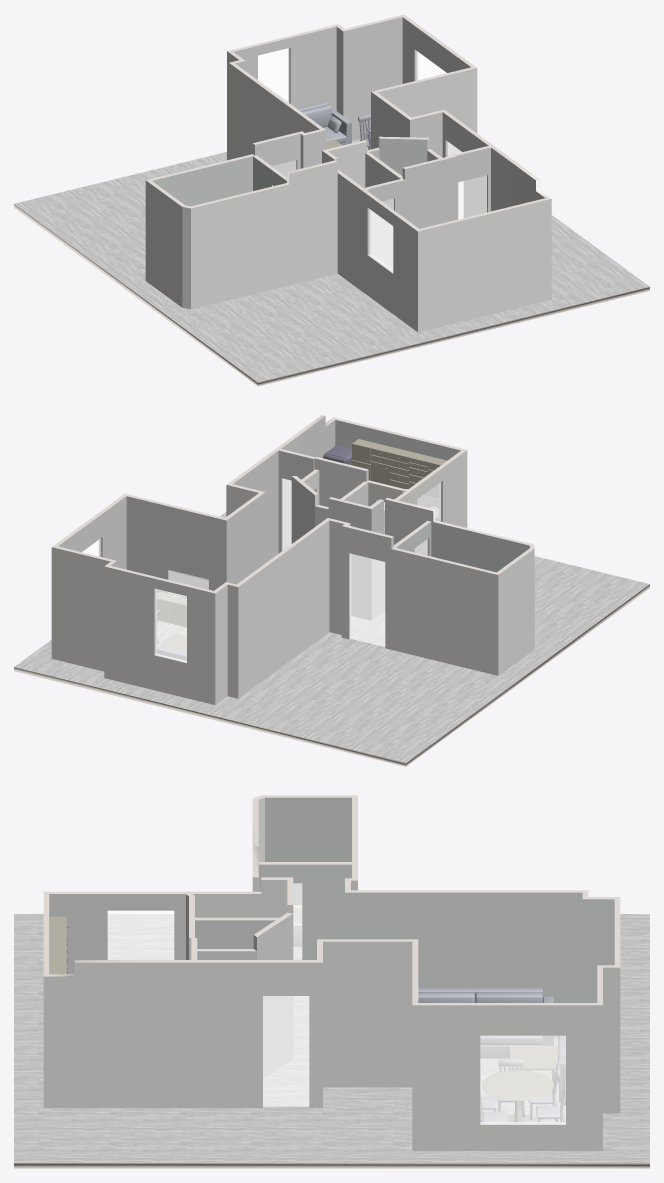
The model's file is myhouse.glb.
3 views of the same model, one above another, from view 1: azimuth 30°, elevation 25°; view 2: azimuth 150°, elevation 25°; view 3: azimuth 270°, elevation 25° (orthographic). The views are drawn at different scales.
Parts seen in each view (by area): view 1: floor_0, wall_29, wall_26, wall_27, wall_6, wall_0, wall_3, wall_5, wall_1, wall_19, wall_4, wall_24 (+18 smaller); view 2: floor_0, wall_24, wall_3, wall_0, wall_1, wall_6, wall_29, wall_5, door_1, wall_4, wall_18, storage_1 (+19 smaller); view 3: floor_0, wall_4, wall_2, wall_0, wall_15, wall_18, window_0, wall_27, wall_5, door_0, wall_16, window_2 (+14 smaller).
Boxes of the visible parts, x1,y1,x2,y2 form: floor_0: [14, 138, 649, 386]; wall_29: [191, 160, 337, 309]; wall_26: [418, 198, 551, 332]; wall_27: [337, 169, 418, 331]; wall_6: [343, 14, 403, 140]; wall_0: [229, 62, 325, 176]; wall_3: [227, 24, 337, 110]; wall_5: [145, 180, 184, 307]; wall_1: [372, 67, 477, 155]; wall_19: [402, 155, 456, 228]; wall_4: [442, 110, 514, 217]; wall_24: [146, 154, 254, 206]; floor_0: [14, 512, 649, 766]; wall_24: [391, 547, 498, 675]; wall_3: [104, 565, 215, 704]; wall_0: [236, 518, 329, 698]; wall_1: [125, 493, 226, 593]; wall_6: [51, 546, 116, 671]; wall_29: [385, 497, 532, 572]; wall_5: [497, 548, 534, 675]; door_1: [350, 553, 385, 646]; wall_4: [227, 433, 300, 562]; wall_18: [225, 492, 265, 584]; storage_1: [352, 439, 446, 497]; floor_0: [14, 914, 649, 1168]; wall_4: [139, 960, 322, 1107]; wall_2: [412, 1003, 602, 1150]; wall_0: [345, 890, 587, 1037]; wall_15: [43, 960, 138, 1107]; wall_18: [318, 939, 417, 1087]; window_0: [480, 1035, 565, 1123]; wall_27: [44, 891, 261, 974]; wall_5: [263, 795, 356, 904]; door_0: [263, 996, 309, 1106]; wall_16: [253, 912, 293, 1078]; window_2: [107, 910, 174, 959].
Bounding box in the file's own units: 9.97 × 2.81 × 10.75.
179 materials, 1 textured.
